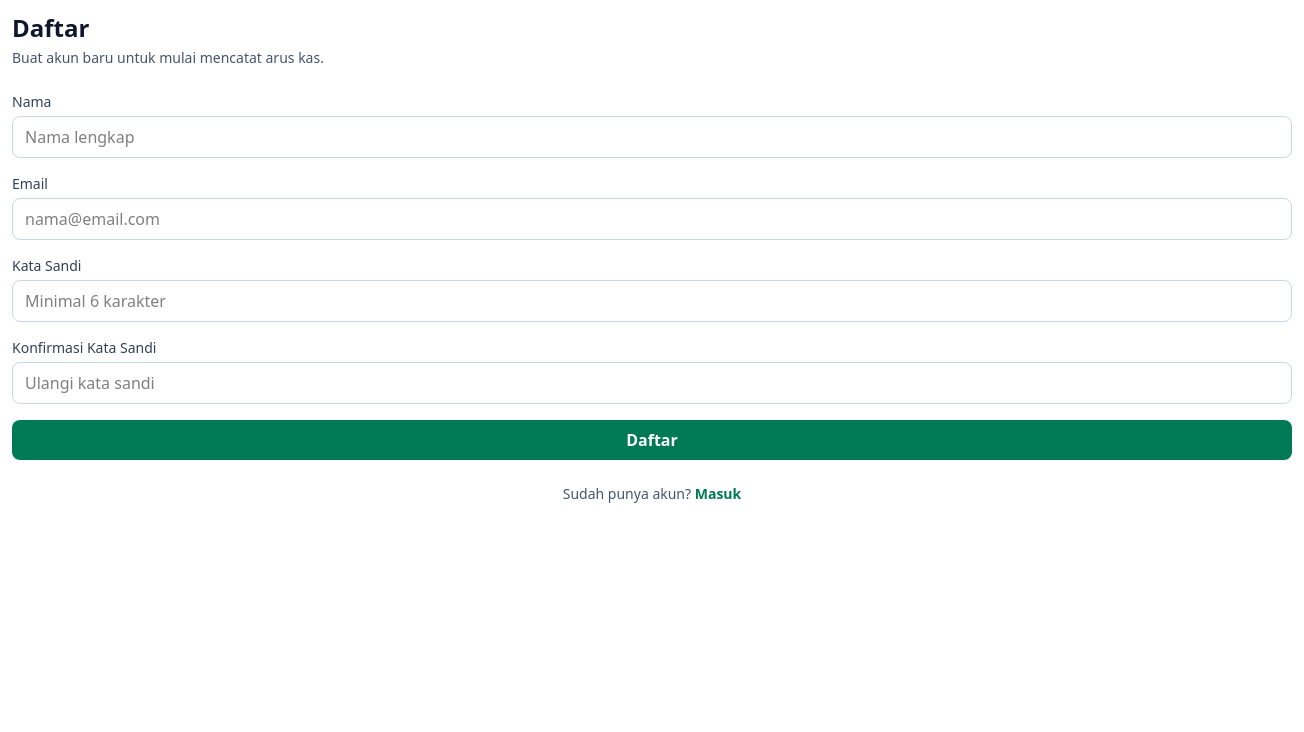
Scenario: RegisterPage › validasi: email salah, sandi pendek, konfirmasi beda
Type "n" into the field with id "name" at point(652, 137), box [12, 116, 1292, 158]
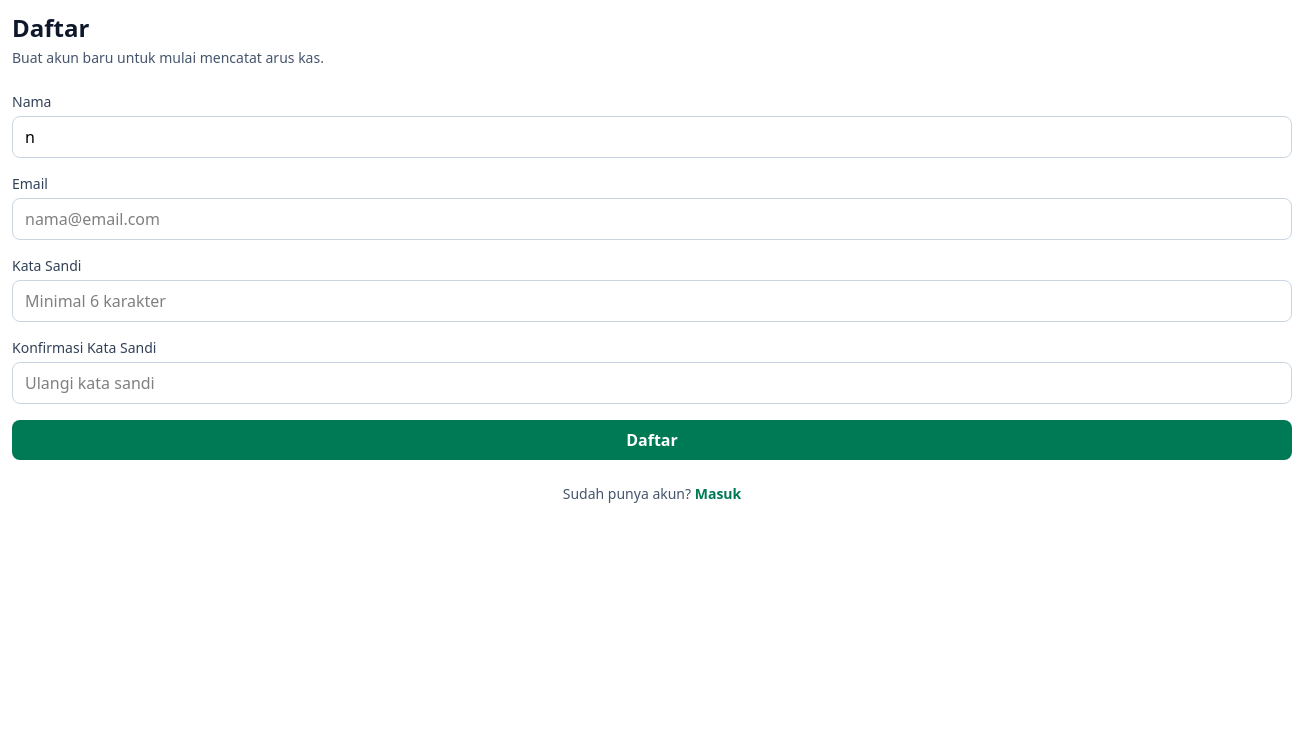
Type "x" into the field with id "email" at point(652, 219), box [12, 198, 1292, 240]
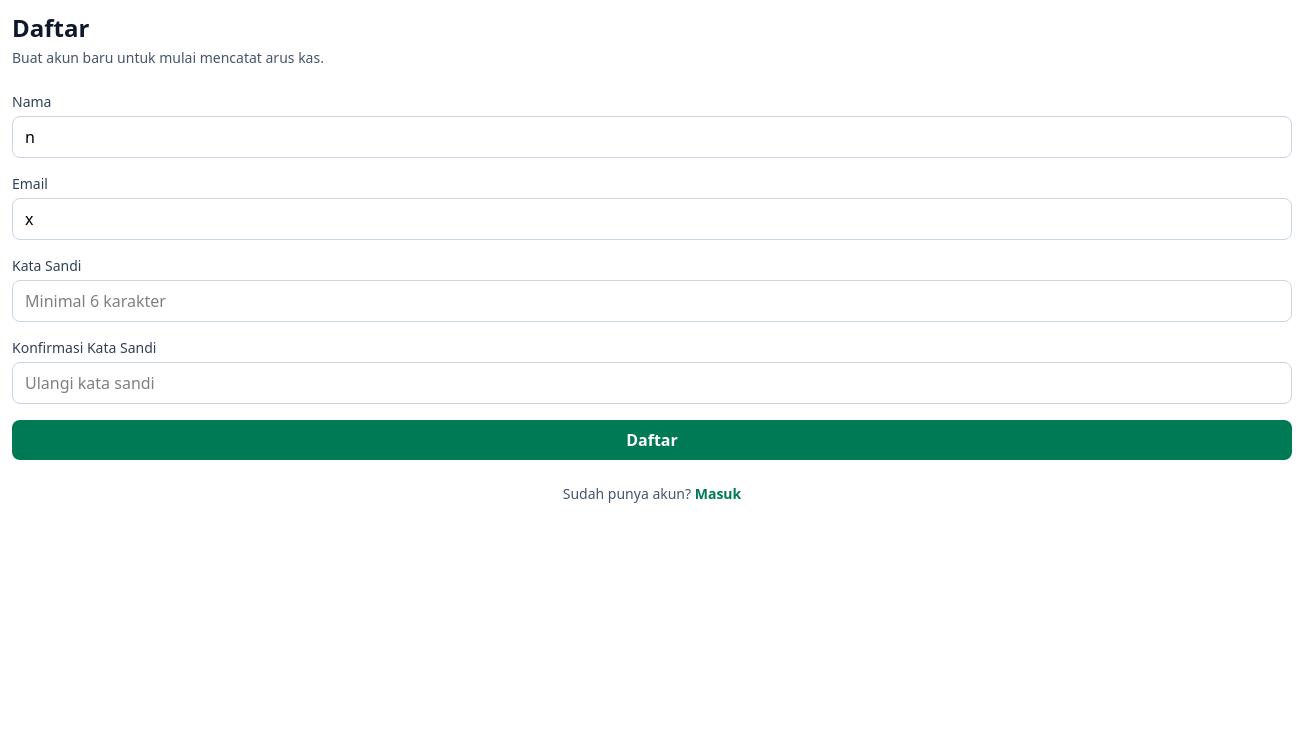
Type "123" into the password field labelled "Kata Sandi" at point(652, 301), box [12, 280, 1292, 322]
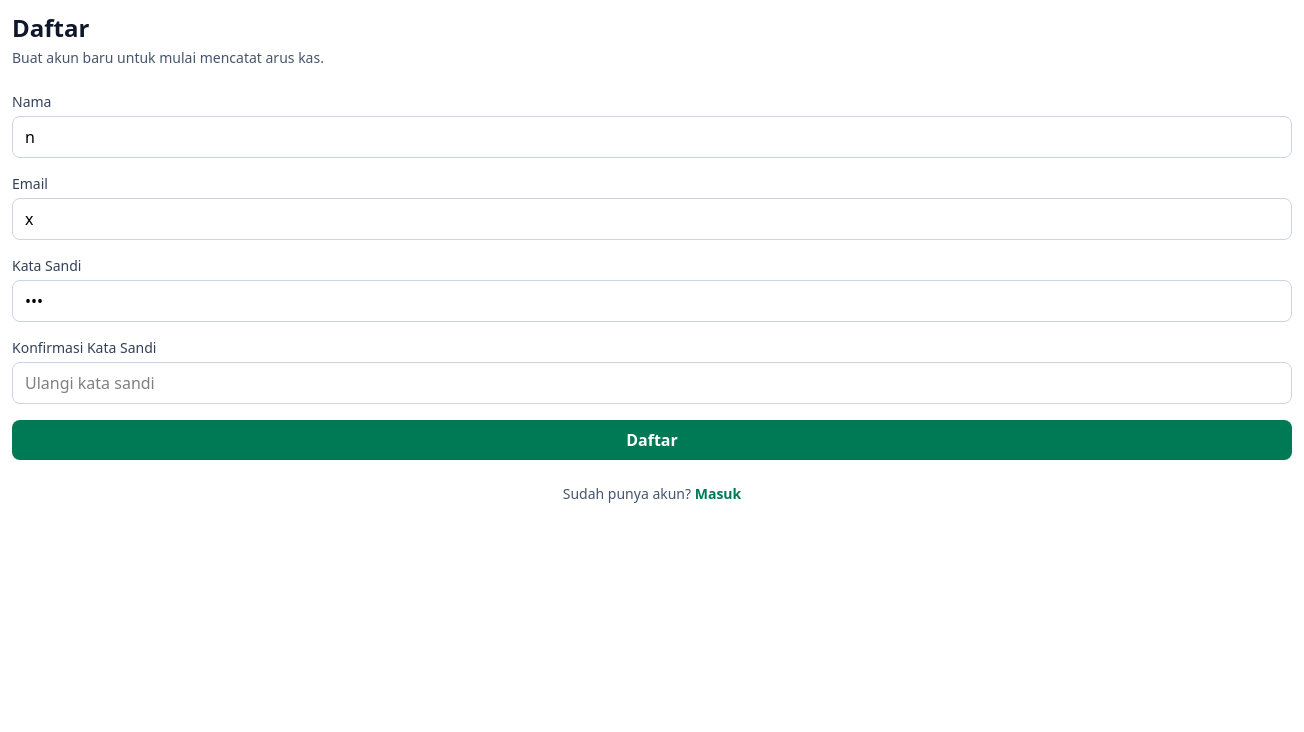
Type "456" into the password field with id "confirmPassword" at point(652, 383), box [12, 362, 1292, 404]
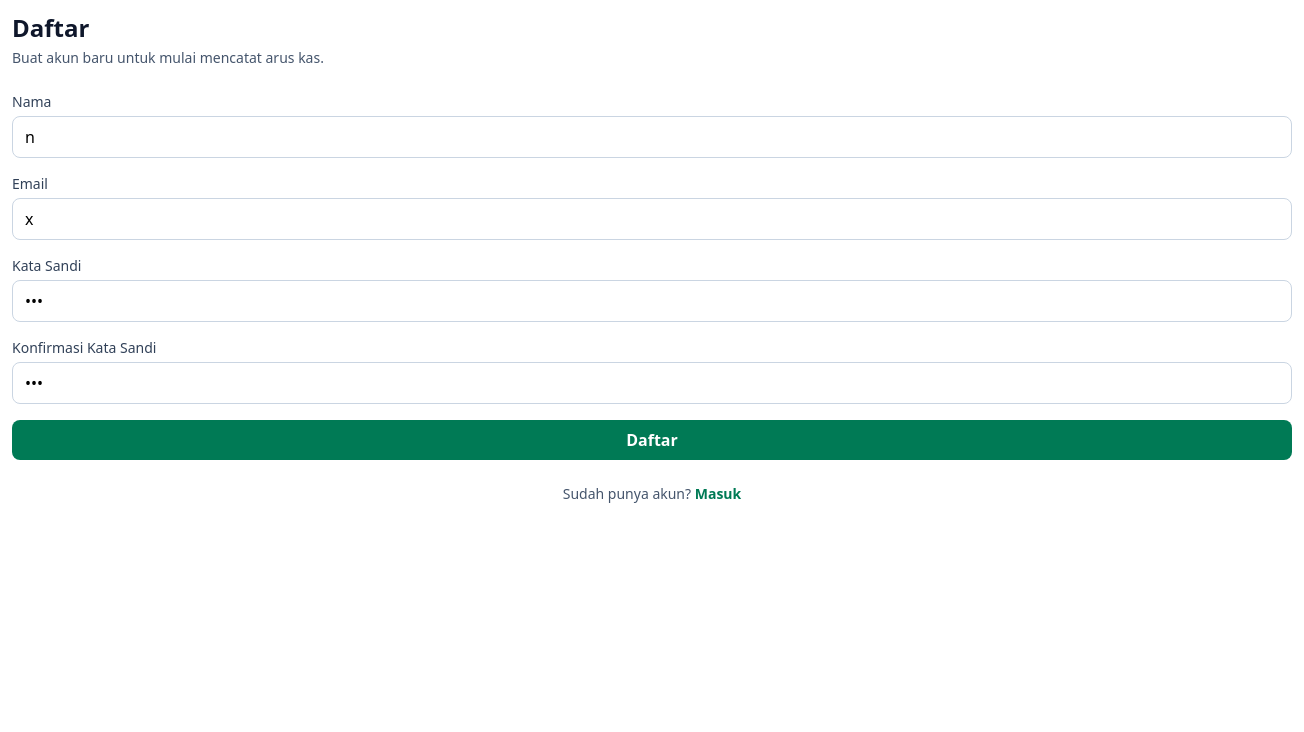
Submit the form, box [12, 92, 1292, 460]
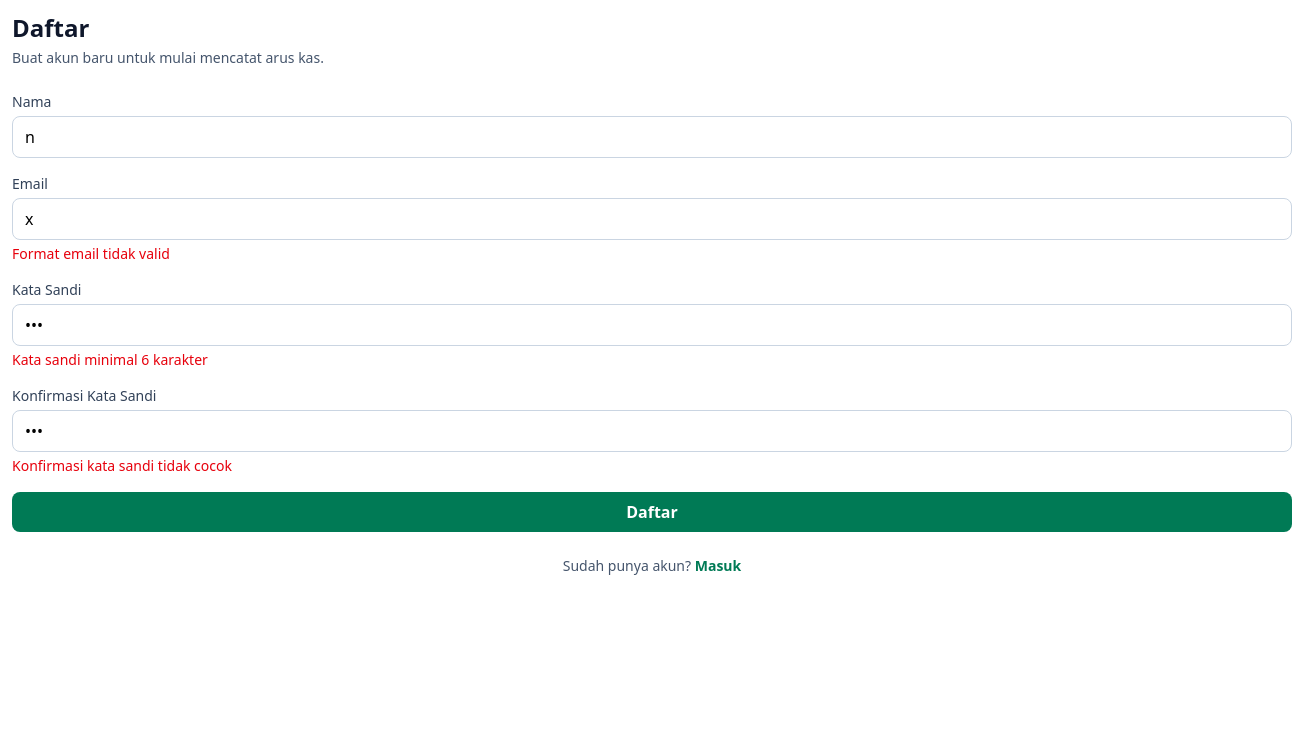
Check: the text "Format email tidak valid" is shown, box [12, 244, 170, 263]
Check: the text "minimal 6 karakter" is shown, box [12, 350, 208, 369]
Check: the text "Konfirmasi kata sandi tidak cocok" is shown, box [12, 456, 232, 475]
